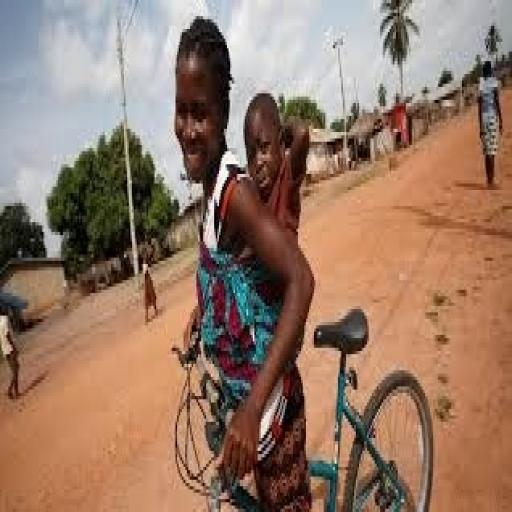cycling: (171, 13, 317, 509)
